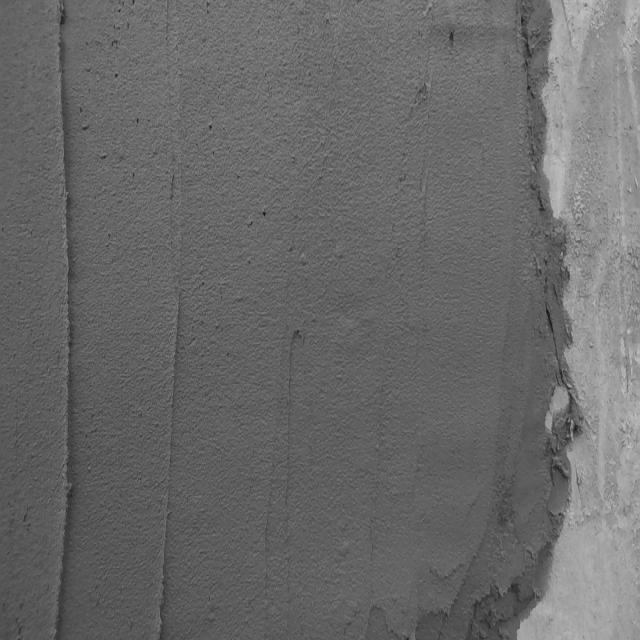trowels marks: (38, 0, 78, 634), (156, 265, 183, 640), (366, 580, 444, 640)
